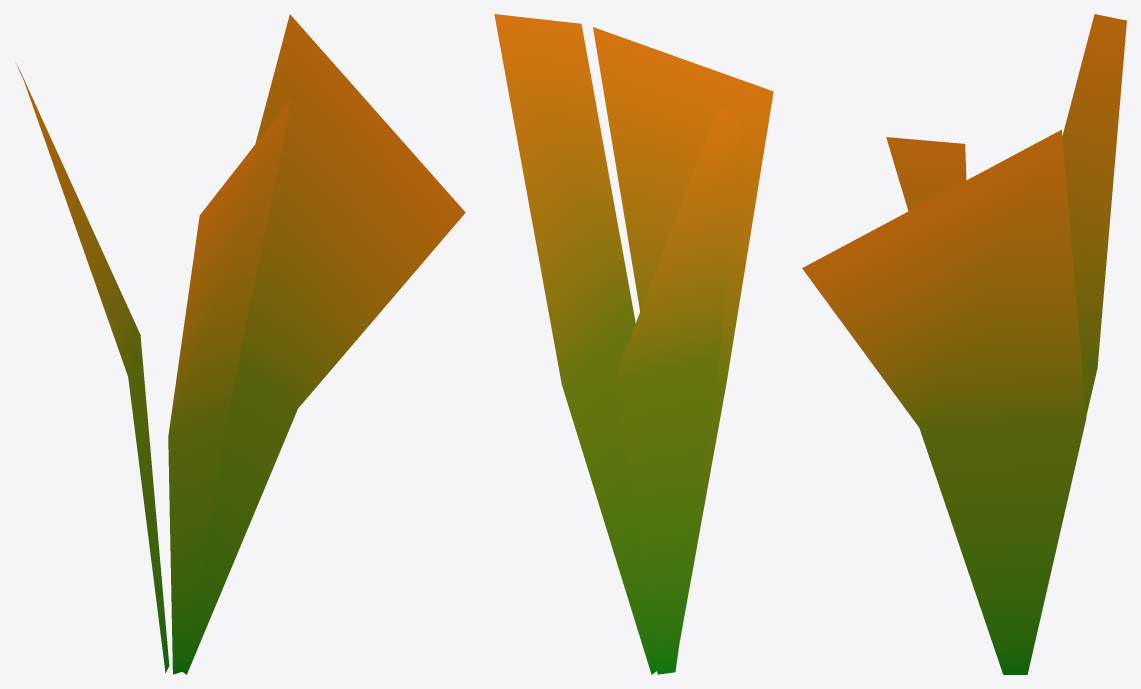
The model's file is Common Eelgrass_LOD3_Var7_sjglk.fbx.
3 views of the same model, side by side, from view 1: azimuth 30°, elevation 25°; view 2: azimuth 150°, elevation 25°; view 3: azimuth 270°, elevation 25° (orthographic). The views are drawn at different scales.
Parts seen in each view (by area): view 1: _d843_Var7_LOD3; view 2: _d843_Var7_LOD3; view 3: _d843_Var7_LOD3.
Boxes of the visible parts, bbox=[...] form: _d843_Var7_LOD3: bbox=[15, 14, 465, 674]; _d843_Var7_LOD3: bbox=[494, 14, 773, 674]; _d843_Var7_LOD3: bbox=[802, 14, 1126, 674].
Size of the model in its own units: 34.79 by 67.47 by 32.56.
